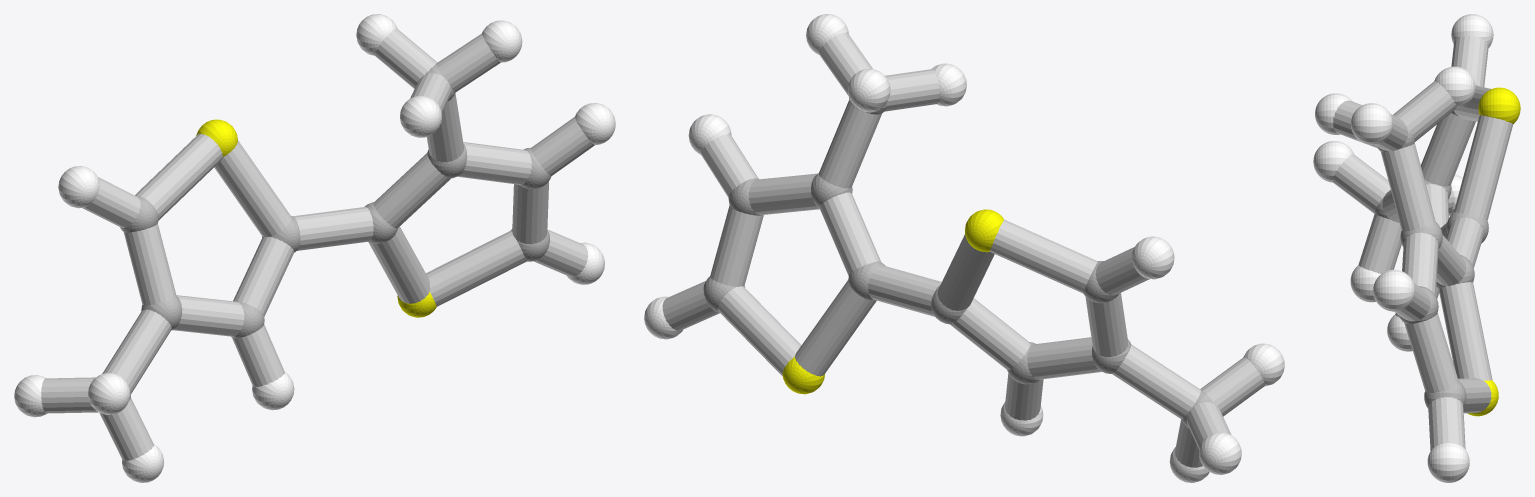
Rendered from Methylthiophene_Phi_15_Theta_40_Methylthiophene.glb.
The picture shows the model from 3 angles, left to right: view 1: azimuth 30°, elevation 25°; view 2: azimuth 150°, elevation 25°; view 3: azimuth 270°, elevation 25°; orthographic projection.
Visible parts, largest first — view 1: grp7965, grp3621, grp1, grp7241; view 2: grp7965, grp3621, grp1, grp7241; view 3: grp7965, grp3621, grp1, grp7241.
Part boxes in pixels (x1,y1,x2,y2): grp7965: (41, 29, 594, 460); grp3621: (14, 14, 615, 482); grp1: (100, 64, 551, 413); grp7241: (196, 119, 436, 317); grp7965: (662, 32, 1264, 467); grp3621: (644, 14, 1284, 482); grp1: (703, 98, 1215, 427); grp7241: (782, 209, 1003, 394); grp7965: (1332, 35, 1513, 450); grp3621: (1313, 14, 1493, 482); grp1: (1375, 84, 1488, 408); grp7241: (1467, 87, 1520, 416).
Bounding box in the file's own units: 9.56 × 5.8 × 2.94.
